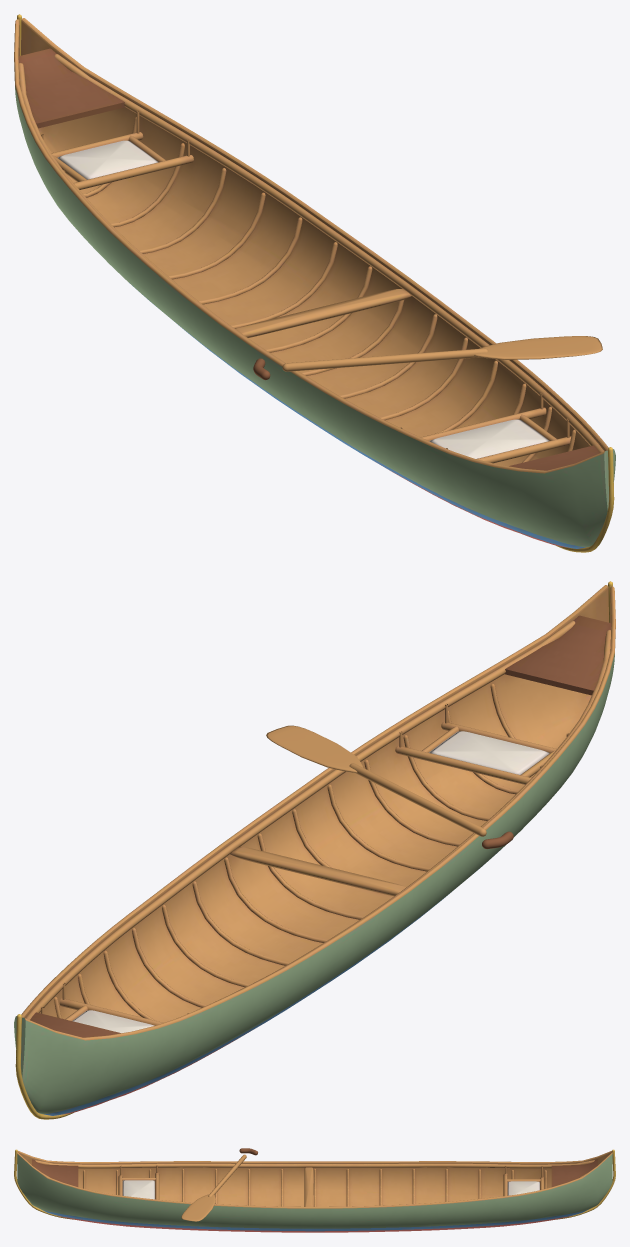
Rendered from canoe.glb.
The picture shows the model from 3 angles, top to bottom: view 1: azimuth 30°, elevation 25°; view 2: azimuth 150°, elevation 25°; view 3: azimuth 270°, elevation 25°; orthographic projection. The views are drawn at different scales.
Parts seen in each view (by area): view 1: canoe_body, canoe_paddle; view 2: canoe_body, canoe_paddle; view 3: canoe_body, canoe_paddle.
Boxes of the visible parts, left/top/right/bottom form: canoe_body: left=14, top=14, right=615, bottom=552; canoe_paddle: left=253, top=336, right=602, bottom=380; canoe_body: left=14, top=581, right=615, bottom=1119; canoe_paddle: left=266, top=725, right=513, bottom=849; canoe_body: left=14, top=1149, right=615, bottom=1232; canoe_paddle: left=181, top=1148, right=257, bottom=1221.
Bounding box in the file's own units: 1.4 × 0.675 × 4.96.
Materials: 4 (1 with a texture image).
